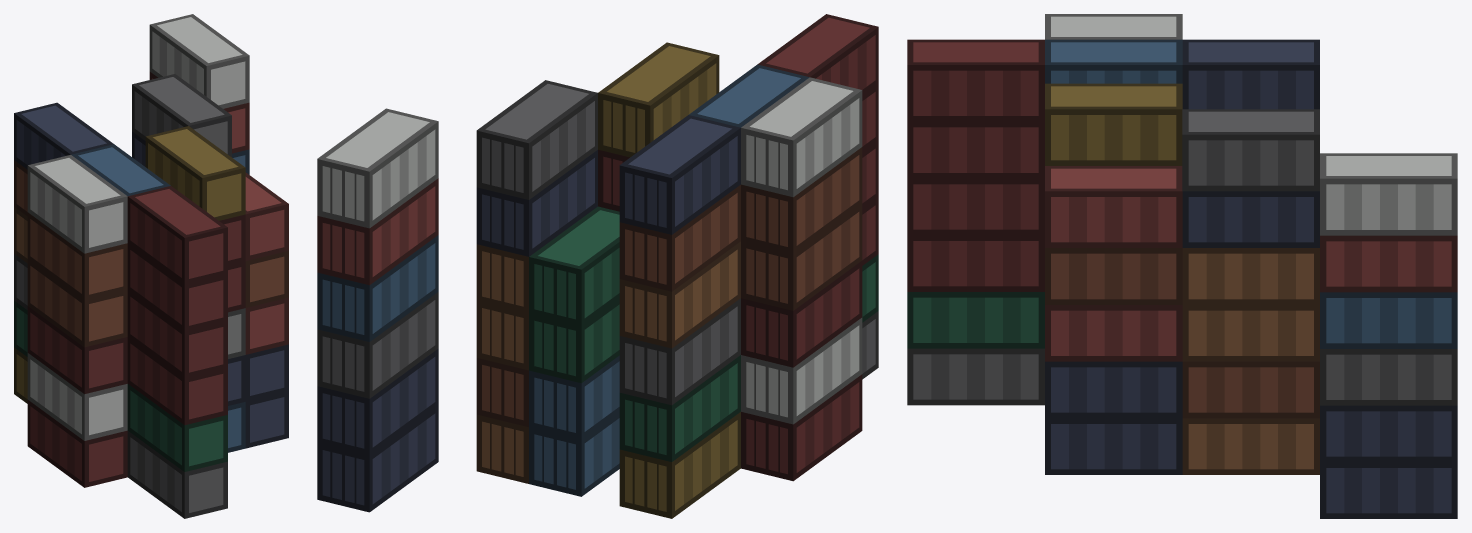
The model's file is light-quay-crane-mirrored.glb.
The picture shows the model from 3 angles, left to right: view 1: azimuth 30°, elevation 25°; view 2: azimuth 150°, elevation 25°; view 3: azimuth 270°, elevation 25°; orthographic projection. The views are drawn at different scales.
Parts seen in each view (by area): view 1: light-quay-crane-mirrored; view 2: light-quay-crane-mirrored; view 3: light-quay-crane-mirrored.
Boxes of the visible parts, x1,y1,x2,y2 form: light-quay-crane-mirrored: [14, 14, 288, 518]; light-quay-crane-mirrored: [317, 14, 878, 518]; light-quay-crane-mirrored: [907, 14, 1457, 518].
Size of the model in its own units: 37.4 by 36 by 52.8.
